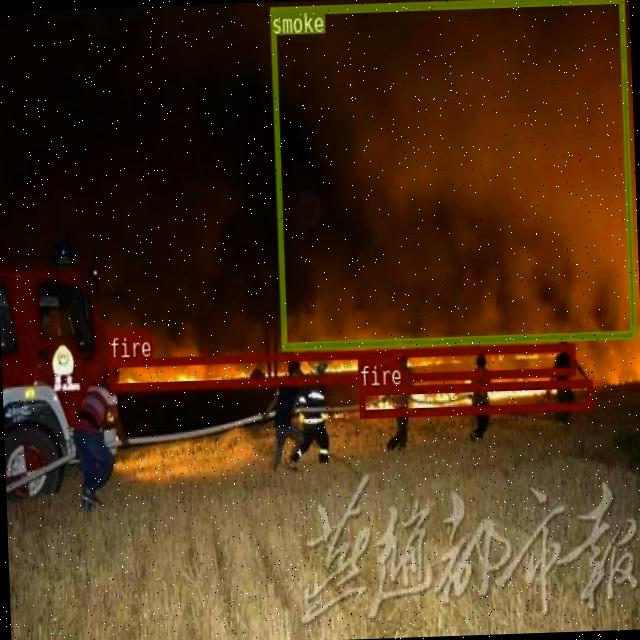fire: (108, 342, 574, 389), (358, 378, 592, 414)
smoke: (268, 0, 634, 348)
